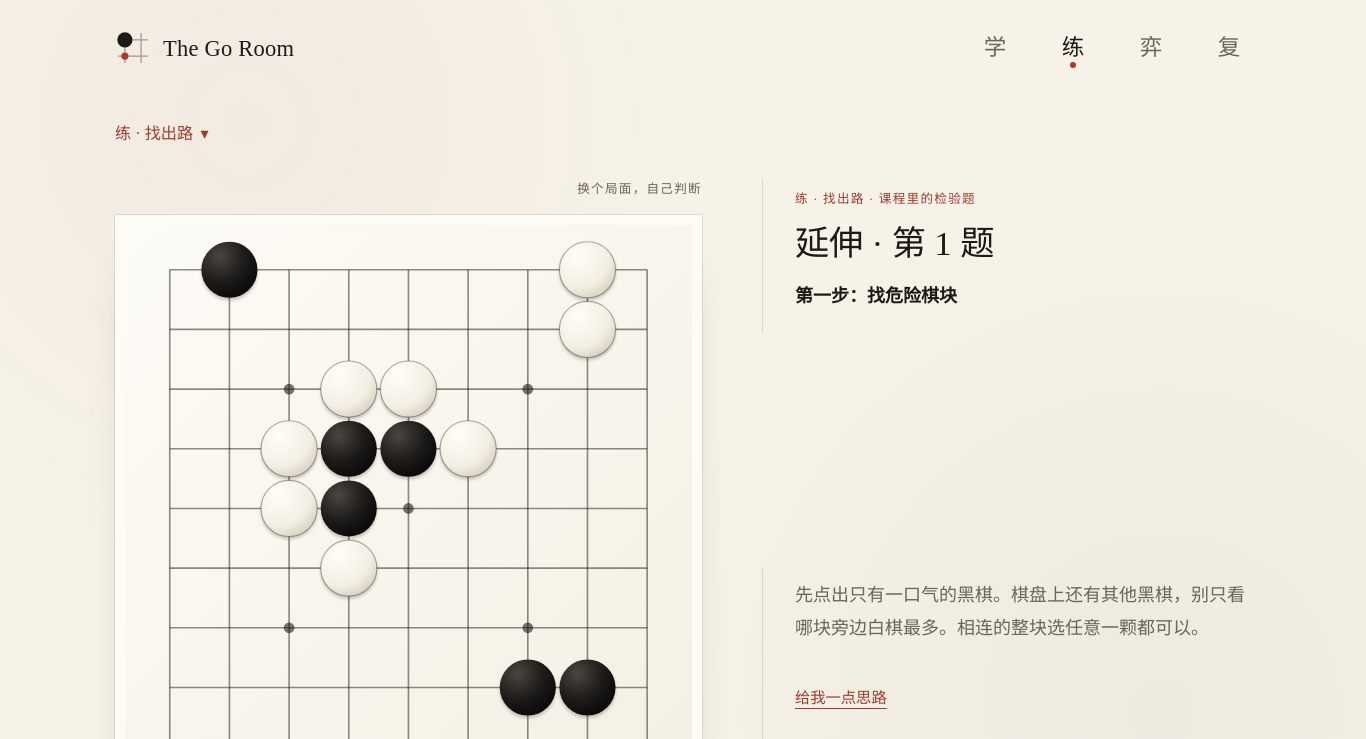
practice hub › shows the practice group and shared caption on all course exercises
This screenshot has width=1366, height=739.
Earlier steps of the test are not shown.
Later steps or results of the test are not shown.
Check: the text "换个局面，自己判断" is shown, box left=577, top=182, right=702, bottom=196
Step 1. Click the button named "练习" → [1073, 48], box left=1051, top=26, right=1095, bottom=70
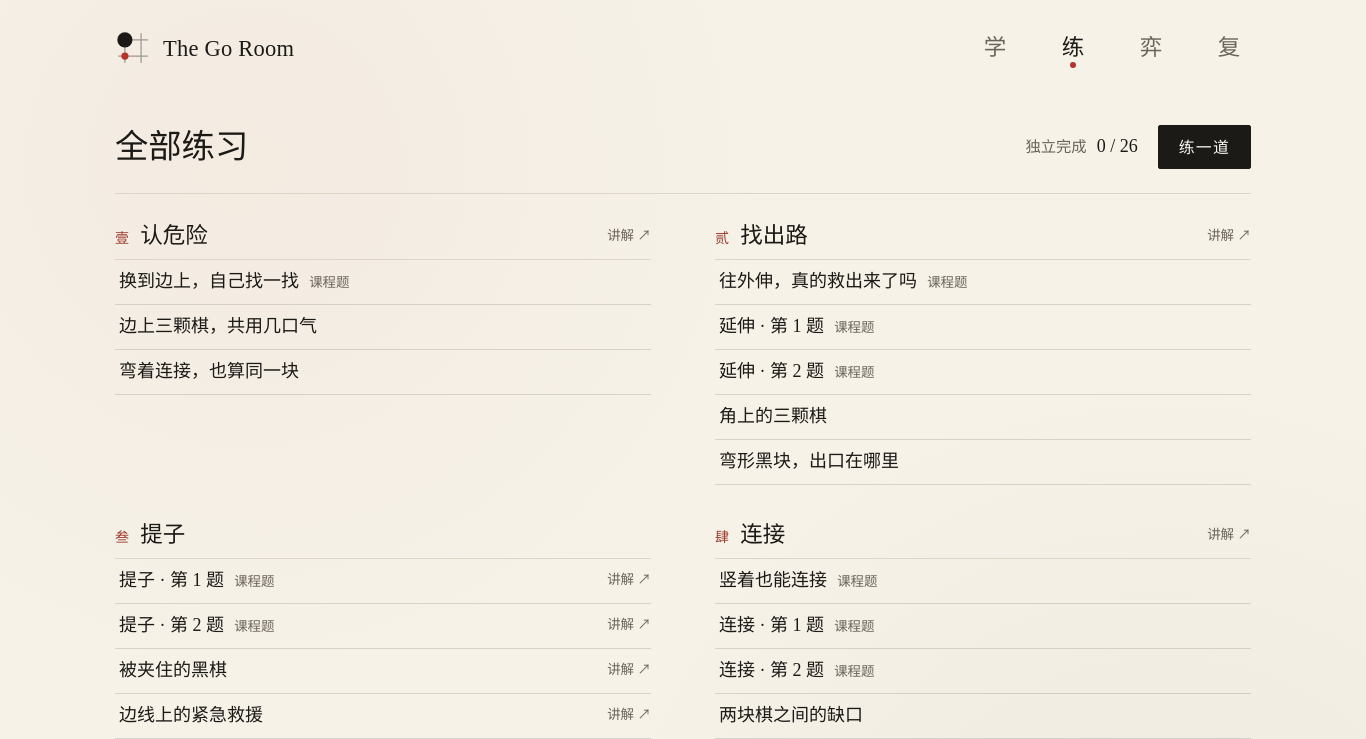
Step 2. Click the button "延伸 · 第 2 题" → [772, 371], box left=715, top=350, right=1251, bottom=394
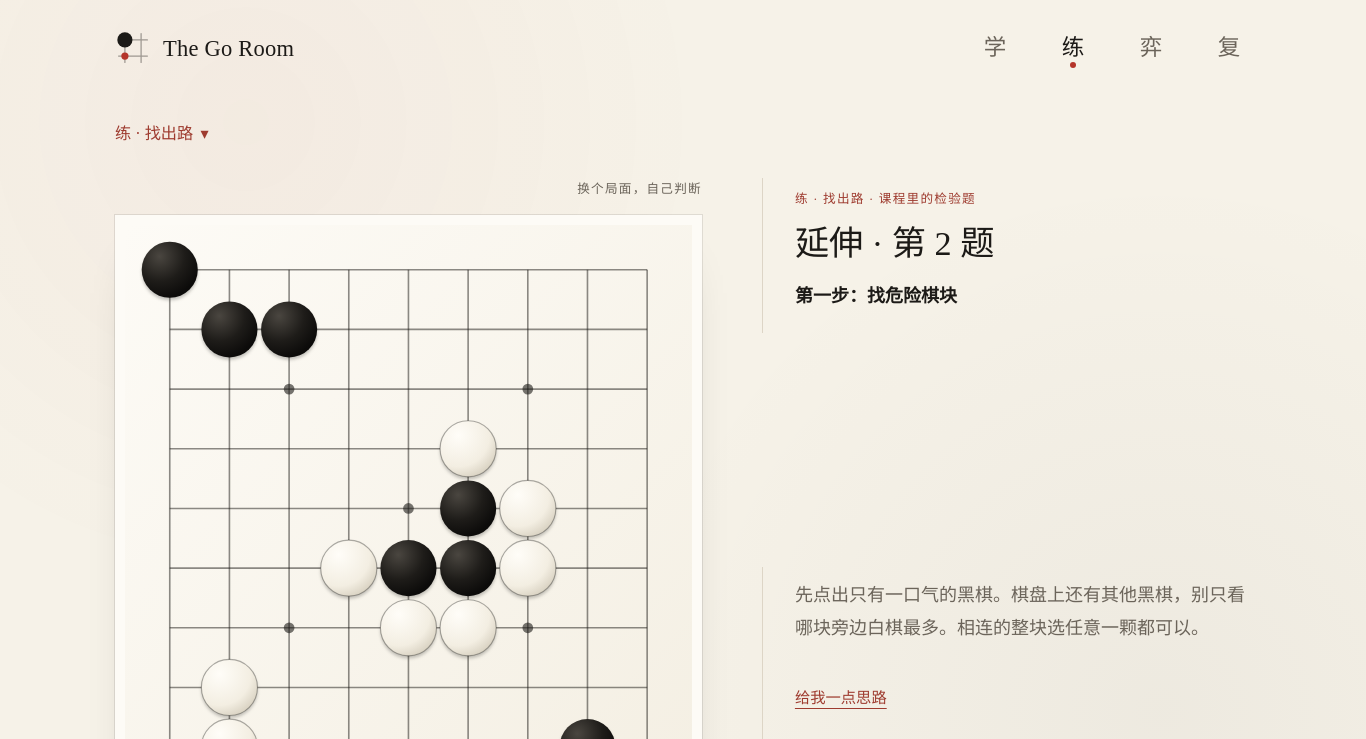
Check: the text "换个局面，自己判断" is shown, box left=577, top=182, right=702, bottom=196
Step 3. Click the button named "练习" → [1073, 48], box left=1051, top=26, right=1095, bottom=70
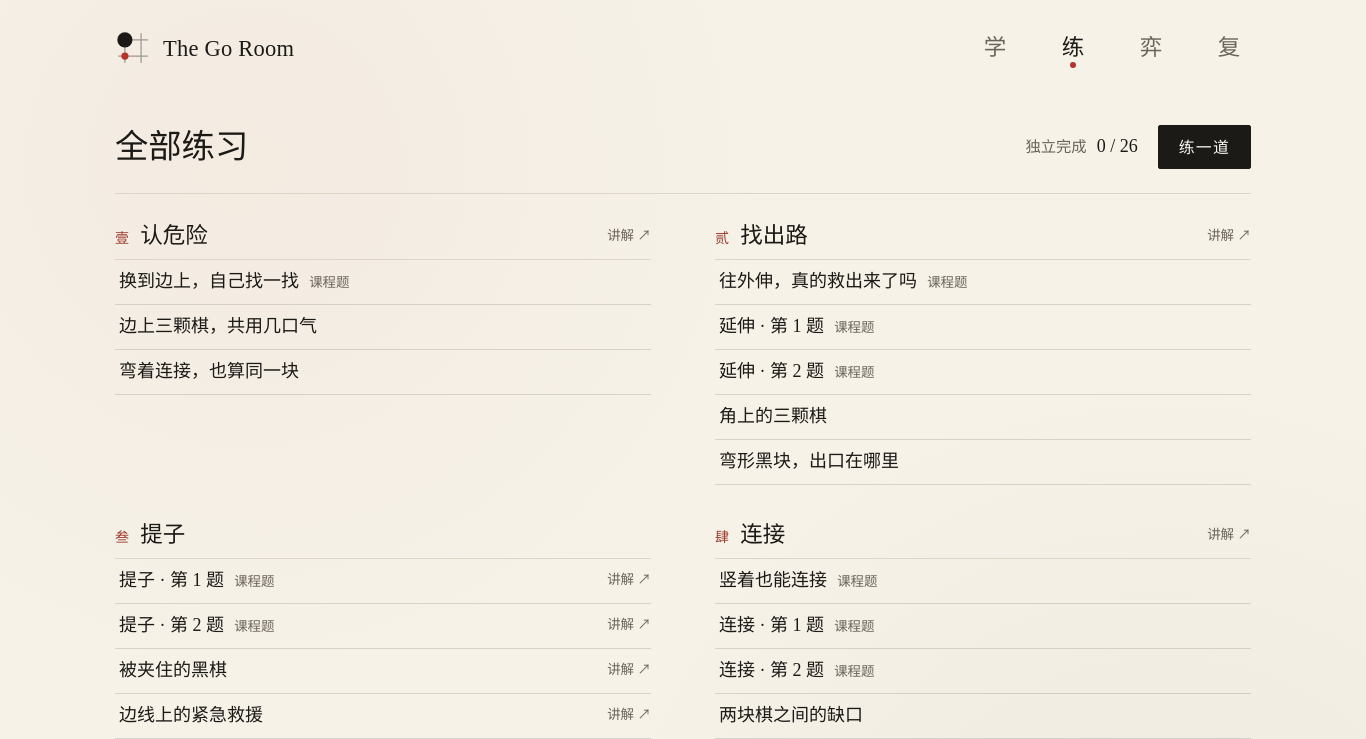
Step 4. Click the button "提子 · 第 1 题" → [172, 580], box left=115, top=559, right=599, bottom=603
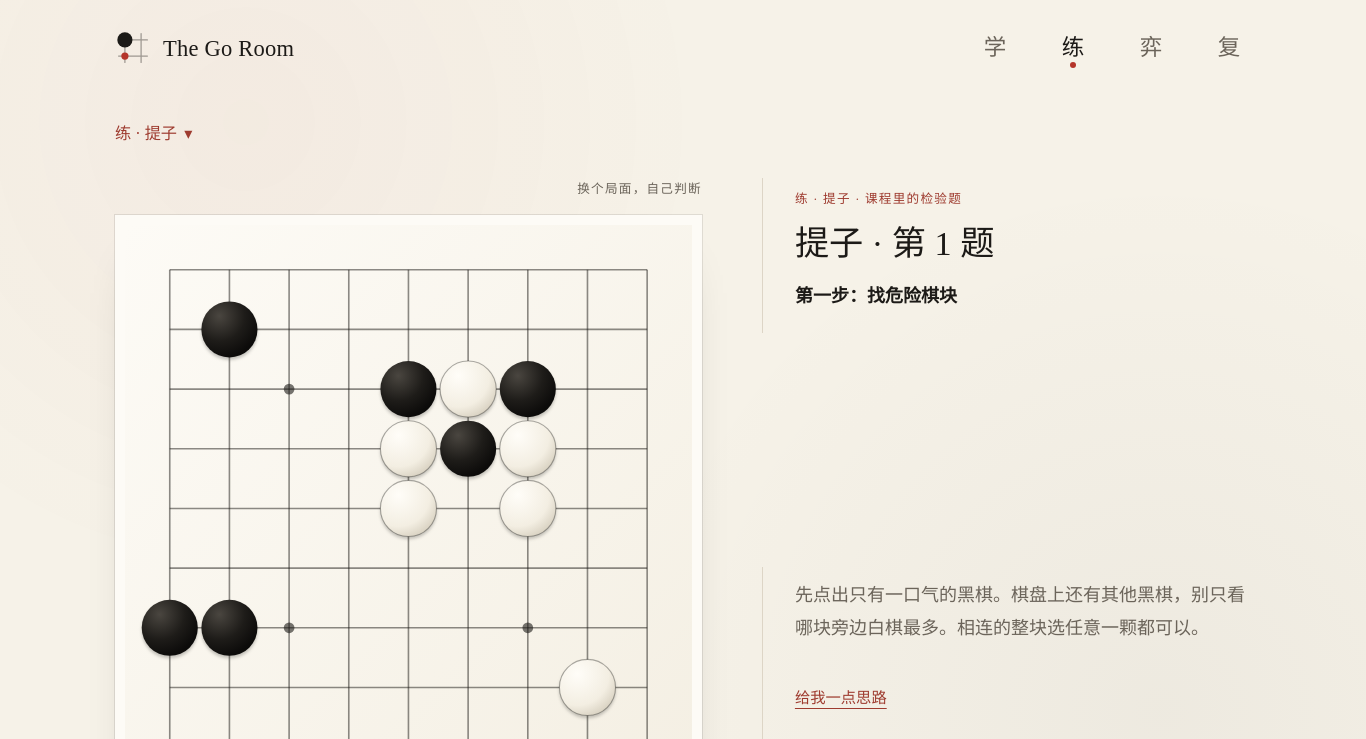
Check: the text "换个局面，自己判断" is shown, box left=577, top=182, right=702, bottom=196
Step 5. Click the button named "练习" → [1073, 48], box left=1051, top=26, right=1095, bottom=70
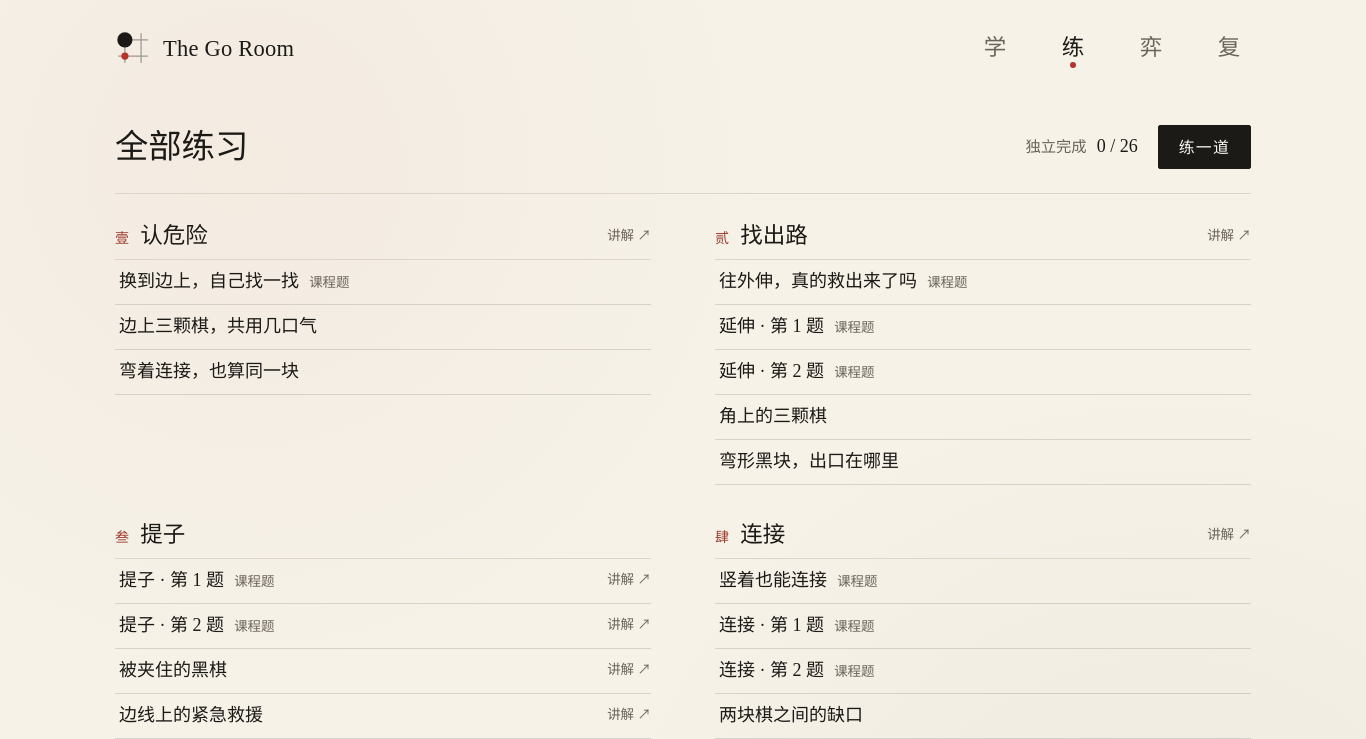
Step 6. Click the button "提子 · 第 2 题" → [172, 625], box left=115, top=604, right=599, bottom=648
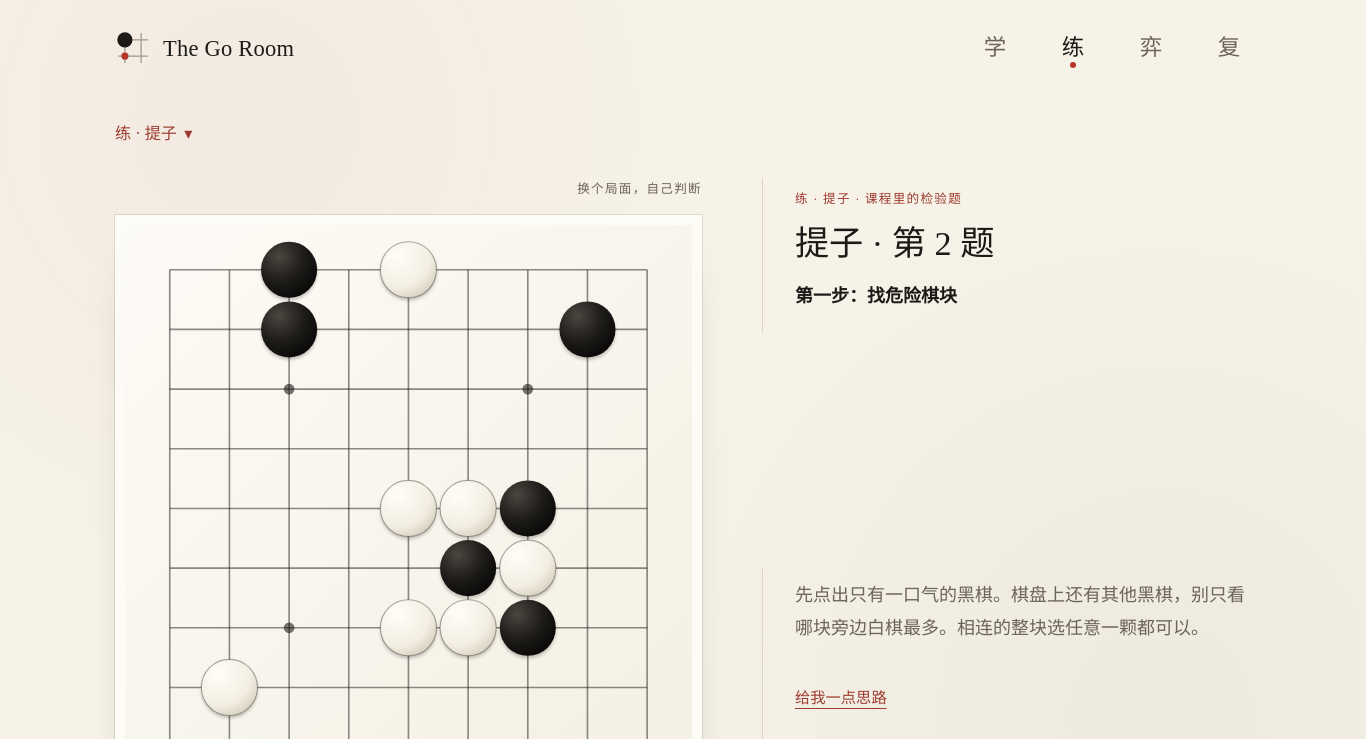
Check: the text "换个局面，自己判断" is shown, box left=577, top=182, right=702, bottom=196
